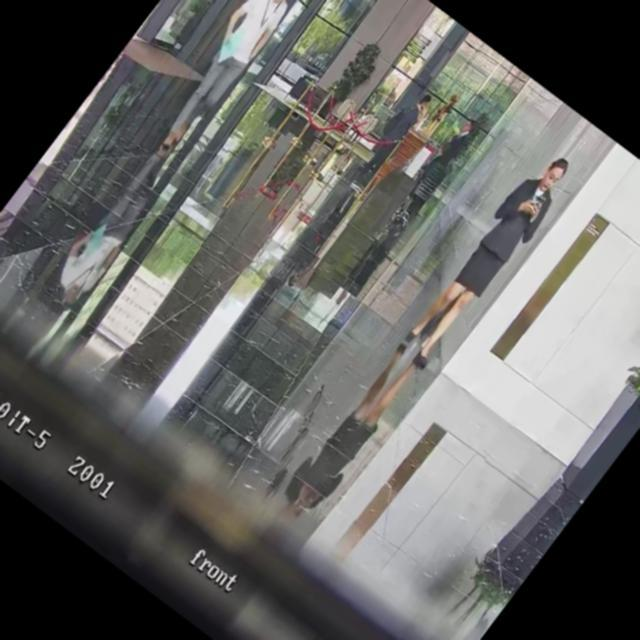person: (392, 144, 582, 376), (138, 0, 311, 166), (388, 110, 486, 230), (345, 89, 434, 196)
